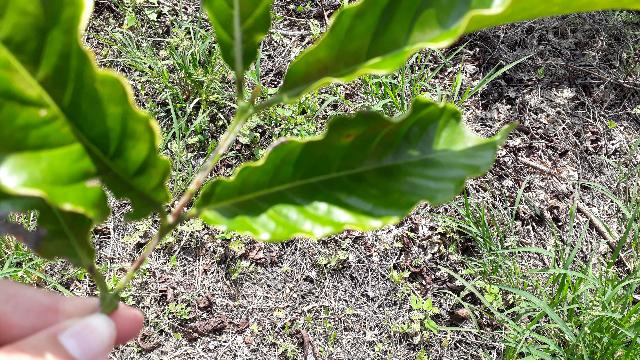rust_level_1: (200, 96, 512, 245)
